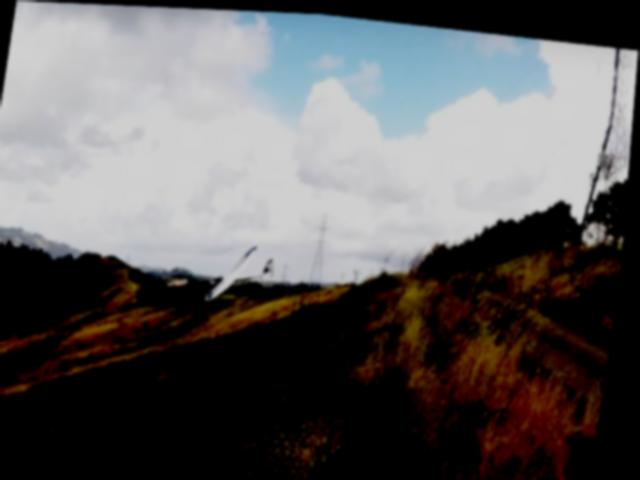iha: (206, 237, 277, 303)
